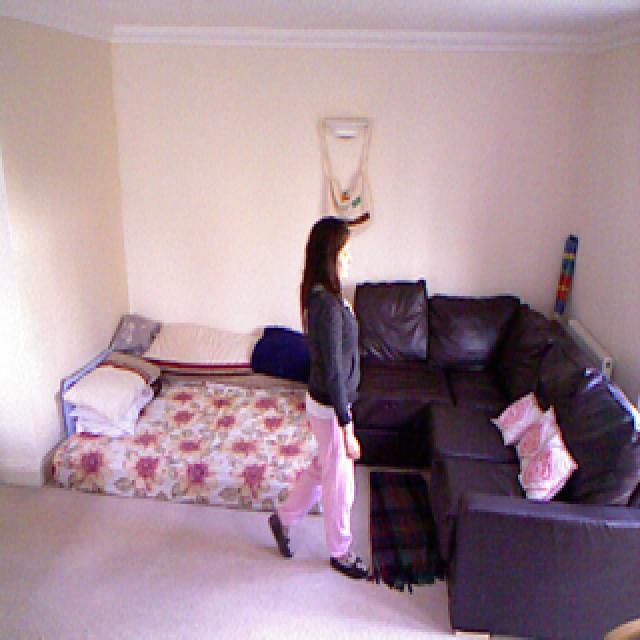standing: (270, 217, 373, 580)
